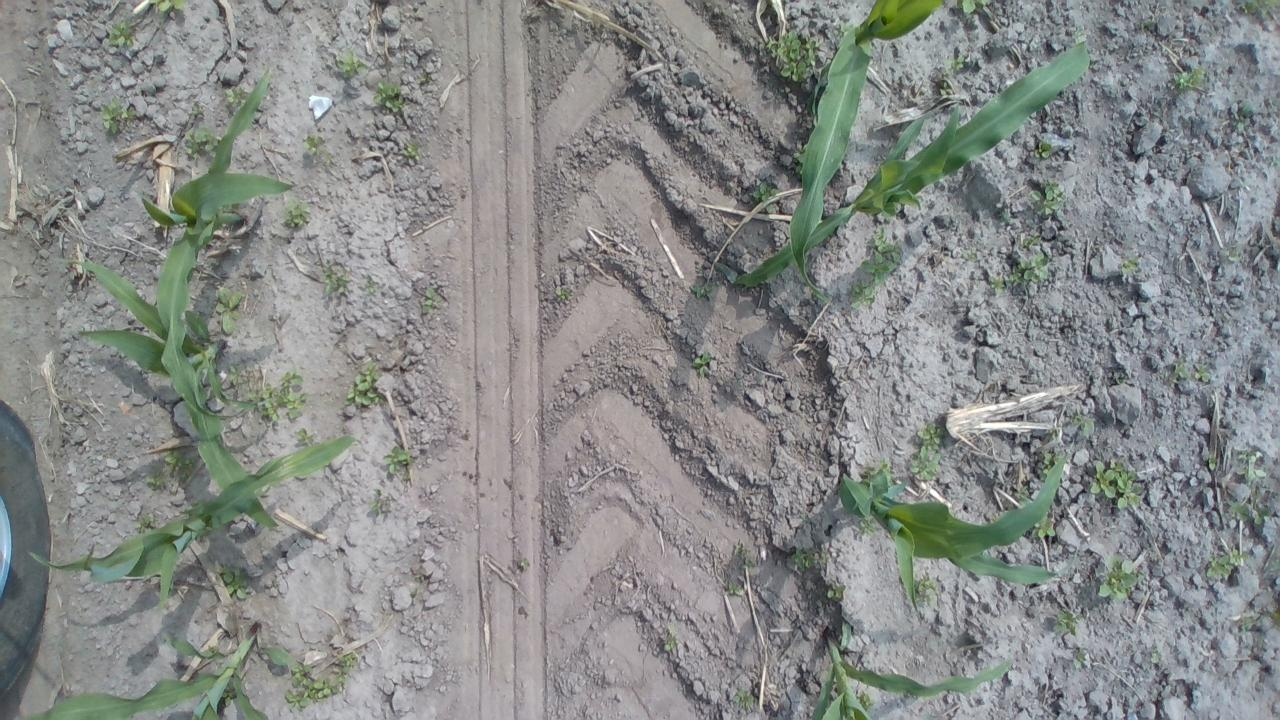Maize: (733, 39, 1092, 290), (28, 430, 356, 620), (792, 1, 954, 304), (136, 67, 298, 347), (840, 444, 1079, 620), (65, 253, 276, 441), (14, 621, 316, 720)
Weeds: (280, 648, 364, 714), (766, 27, 826, 90), (1087, 455, 1148, 514), (902, 422, 954, 484), (253, 366, 310, 419), (1199, 546, 1255, 597), (338, 360, 387, 417), (1100, 550, 1148, 604), (138, 456, 206, 490), (212, 282, 250, 341), (861, 231, 901, 284), (1230, 444, 1270, 494), (180, 125, 222, 168), (370, 76, 410, 120), (1013, 246, 1057, 286), (97, 100, 137, 140), (221, 564, 256, 609), (786, 542, 834, 574), (378, 449, 420, 485), (102, 20, 138, 60), (332, 46, 370, 83), (1028, 182, 1066, 219), (728, 534, 763, 573), (1226, 496, 1266, 530), (284, 193, 316, 233), (685, 276, 722, 308), (1173, 63, 1211, 94), (395, 134, 428, 168), (416, 281, 448, 316), (1050, 608, 1086, 637), (1118, 248, 1142, 290), (818, 577, 849, 609), (850, 280, 880, 313), (1163, 357, 1190, 391), (362, 491, 392, 520), (320, 264, 344, 299), (298, 133, 332, 156), (728, 685, 758, 711), (552, 277, 578, 307), (222, 83, 247, 114), (725, 572, 748, 604), (921, 579, 943, 612), (158, 0, 192, 21), (692, 350, 716, 378), (986, 274, 1009, 302), (1190, 362, 1221, 382), (1030, 140, 1058, 162), (294, 425, 316, 450), (1202, 452, 1219, 481), (660, 632, 677, 660), (361, 275, 379, 298)
